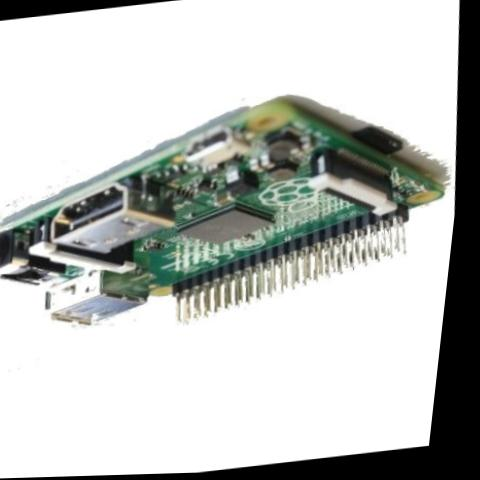Raspberry-Pi-1-Model-A-: (0, 70, 473, 369)
